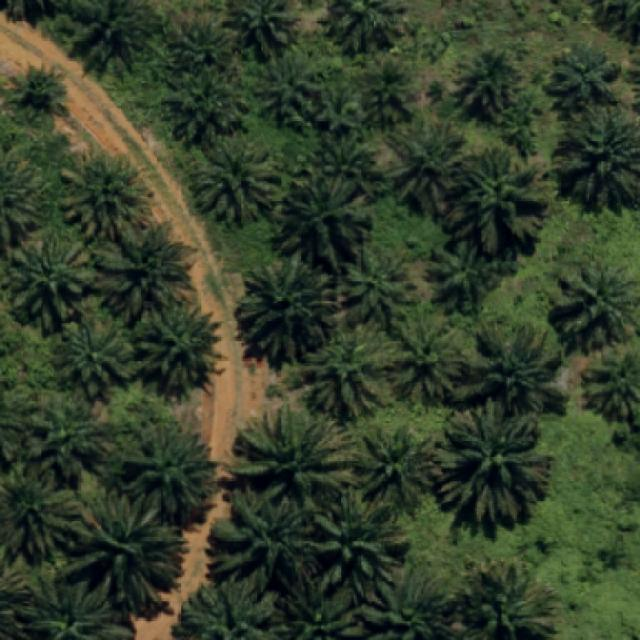Kelapa_Sawit: (58, 490, 188, 616), (432, 394, 558, 524), (226, 399, 362, 507), (233, 249, 341, 369), (442, 141, 550, 257), (116, 412, 222, 526), (267, 163, 375, 274), (206, 483, 325, 580), (464, 313, 568, 419), (98, 214, 194, 326), (59, 146, 158, 245), (313, 489, 402, 598), (382, 107, 470, 215), (300, 328, 403, 420), (136, 297, 227, 401), (6, 229, 92, 337), (186, 136, 285, 229), (384, 306, 473, 406), (350, 420, 442, 514), (162, 63, 252, 148), (548, 260, 640, 343), (341, 239, 421, 333), (31, 394, 111, 486), (54, 315, 137, 402), (304, 125, 387, 210), (448, 44, 527, 124), (546, 40, 622, 120), (162, 5, 242, 80), (253, 46, 325, 128), (425, 236, 497, 315), (354, 54, 418, 129), (13, 62, 67, 116)
